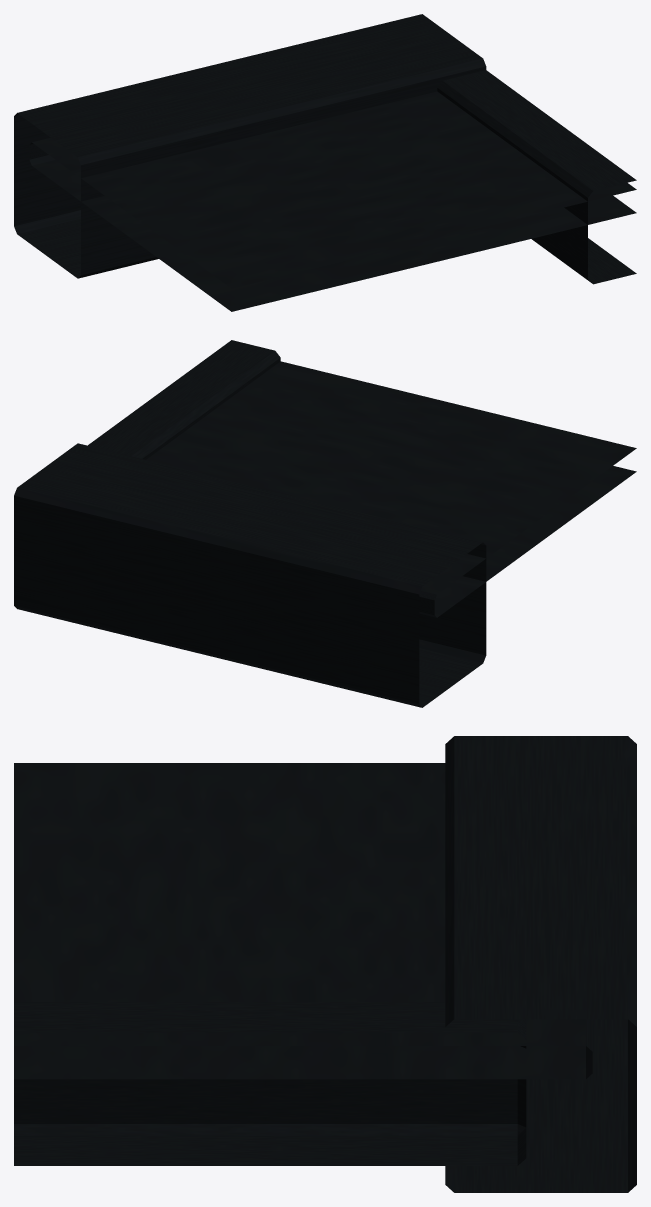
Rendered from cell_3.obj.
The picture shows the model from 3 angles, top to bottom: view 1: azimuth 30°, elevation 25°; view 2: azimuth 150°, elevation 25°; view 3: azimuth 270°, elevation 25°; orthographic projection. The views are drawn at different scales.
Visible parts, largest first — view 1: cell_3; view 2: cell_3; view 3: cell_3.
Boxes of the visible parts, x1=… form: cell_3: x1=14, y1=14, x2=636, y2=311; cell_3: x1=14, y1=340, x2=636, y2=707; cell_3: x1=14, y1=736, x2=636, y2=1192.
Size of the model in its own units: 1 by 0.286 by 0.93.
